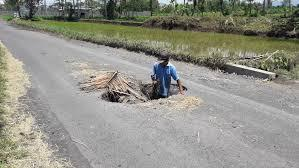Pothole: (87, 59, 191, 110)
